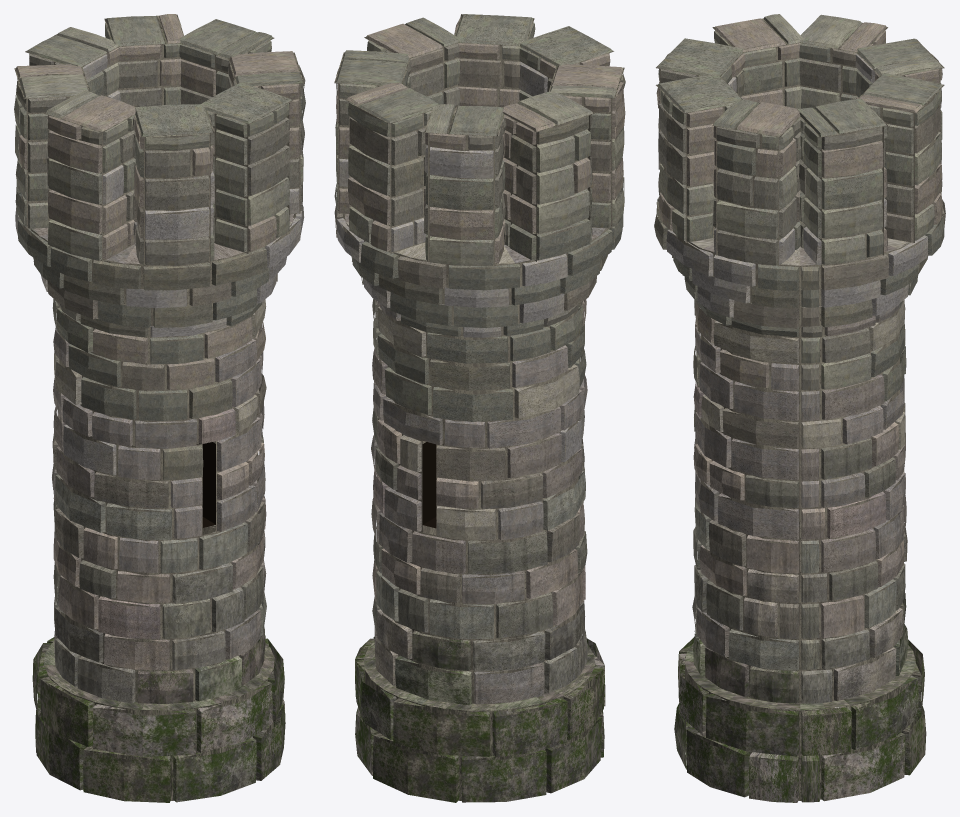
The model's file is fort_turret.glb.
3 renders of one model, left to right at view 1: azimuth 30°, elevation 25°; view 2: azimuth 150°, elevation 25°; view 3: azimuth 270°, elevation 25°, orthographic.
Parts seen in each view (by area): view 1: fort_turret; view 2: fort_turret; view 3: fort_turret.
Part boxes in pixels (x1,y1,x2,y2): fort_turret: (14, 14, 305, 802); fort_turret: (334, 14, 625, 802); fort_turret: (654, 14, 945, 802).
Bounding box in the file's own units: 2.61 × 6.75 × 2.62.
3 materials, 3 textured.
